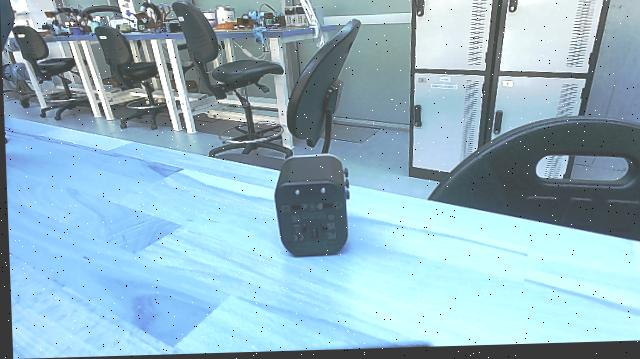adapter: (270, 152, 353, 263)
